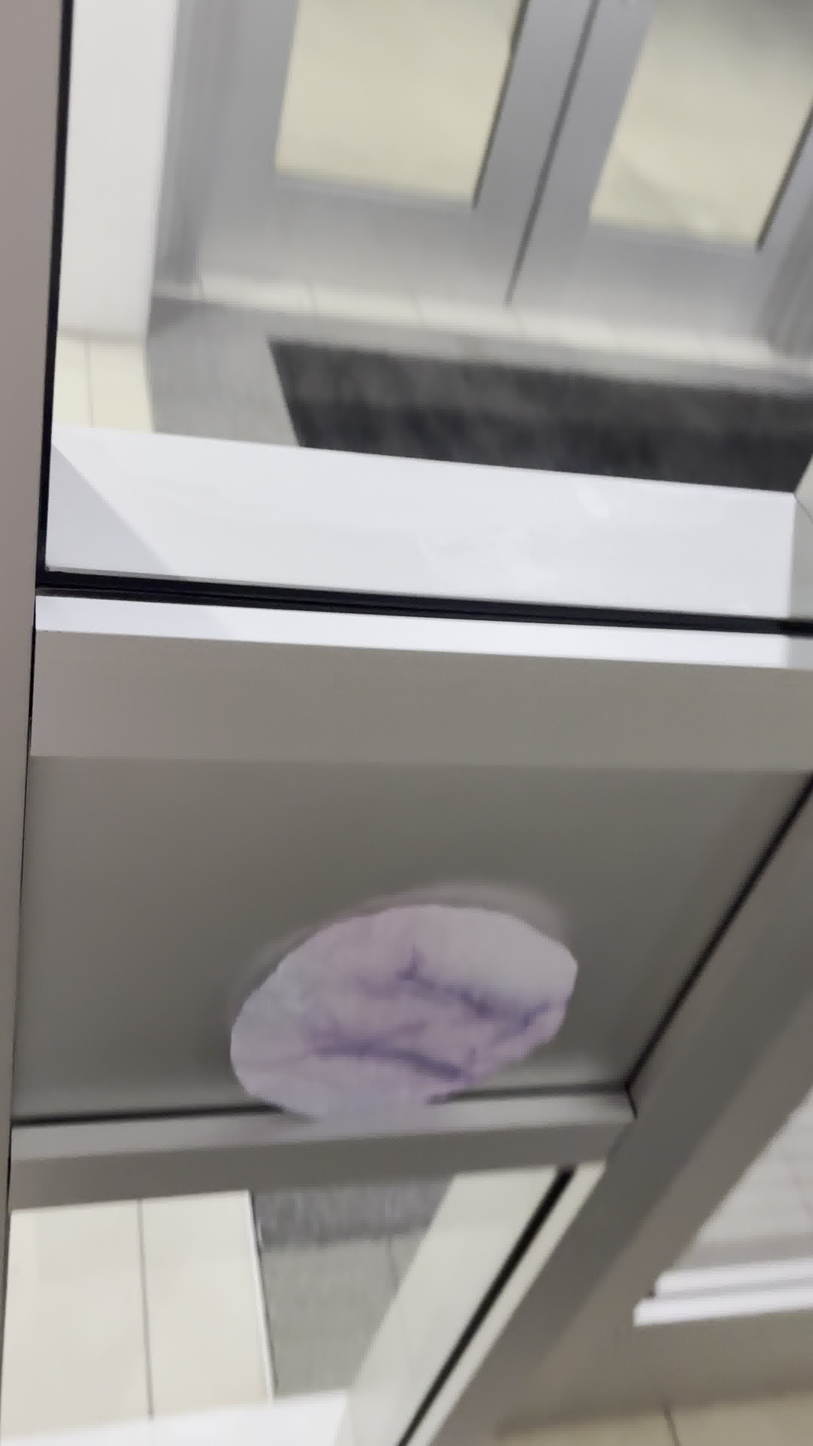Target: (226, 895, 590, 1133)
